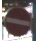No entry: (4, 6, 31, 36)
